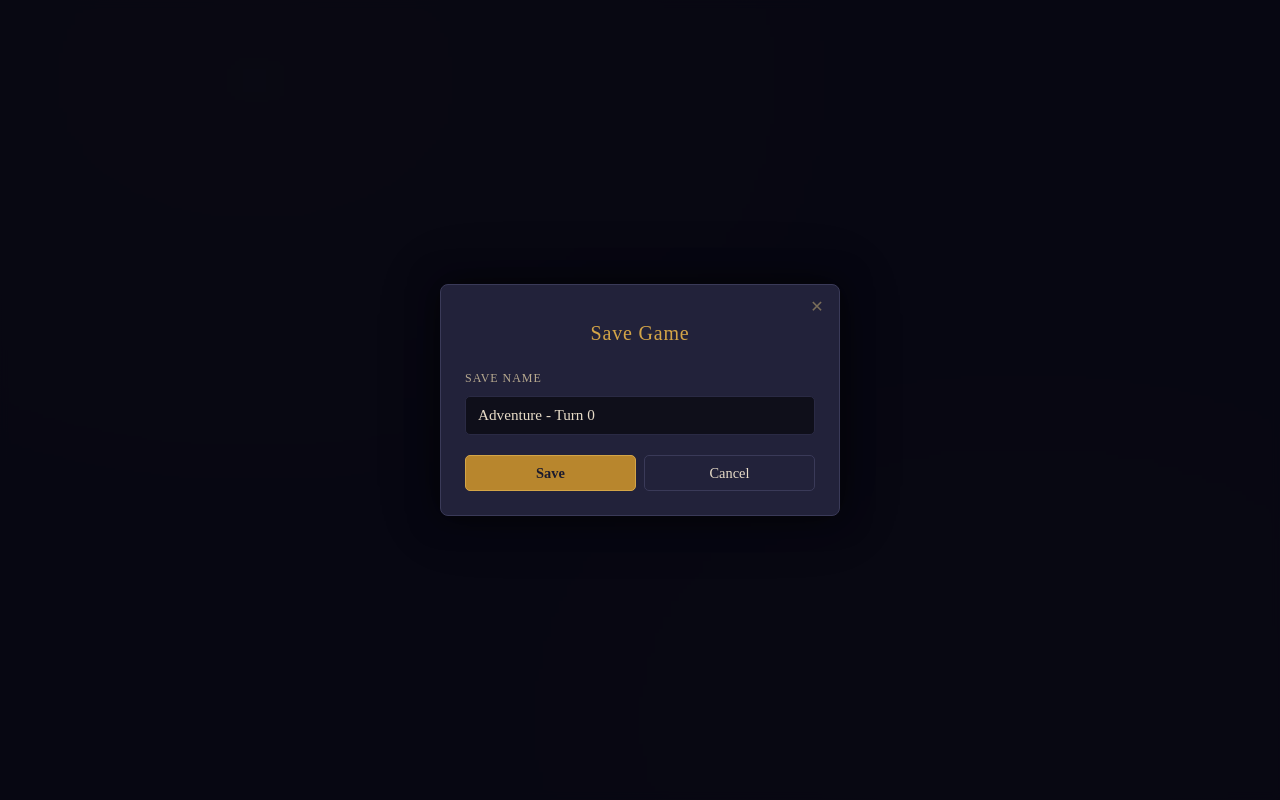
SaveGameModal › saving phase › shows a spinner and "Saving…" text while saving
Step 1. Click the button "Save" → [550, 473], box [465,455,636,492]
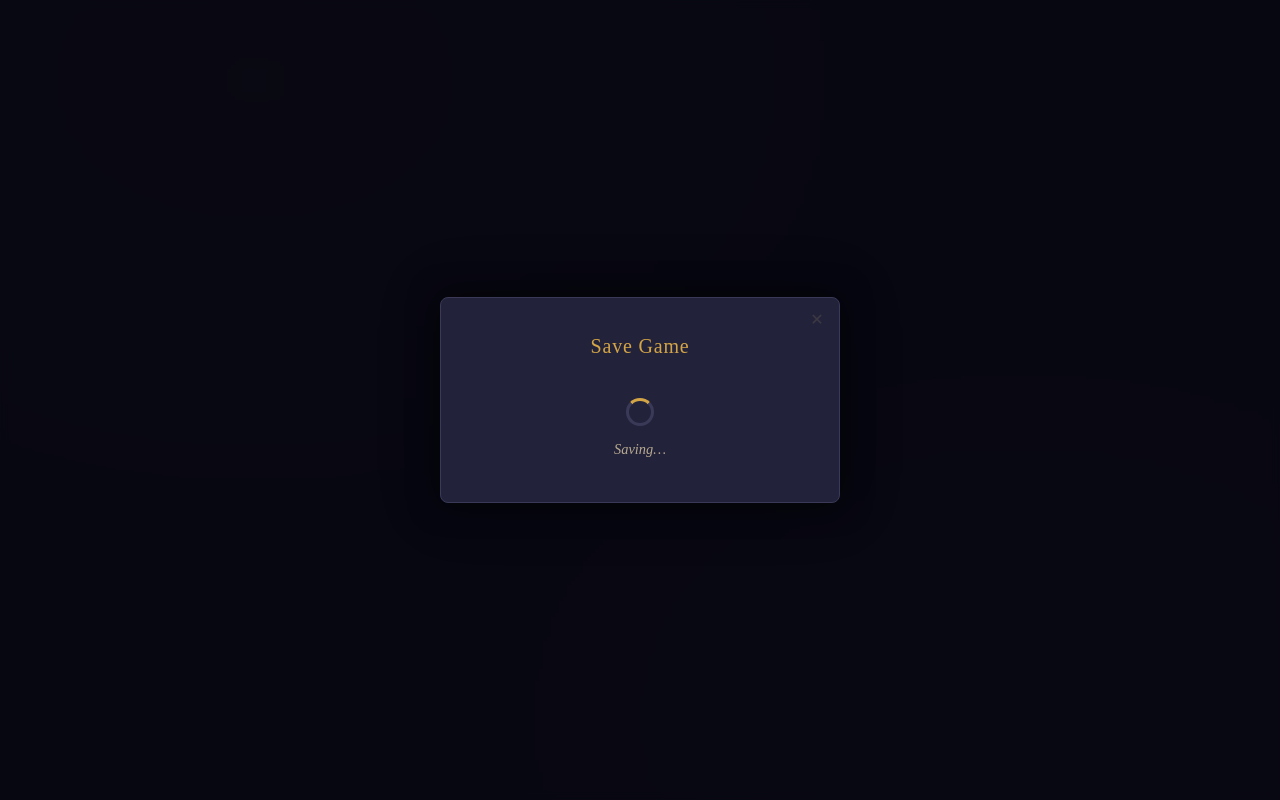
Result: the text "Saving…" is shown at [614,438,666,462]
Result: the label labelled "Save Name" is gone
Result: the button "Cancel" is gone
